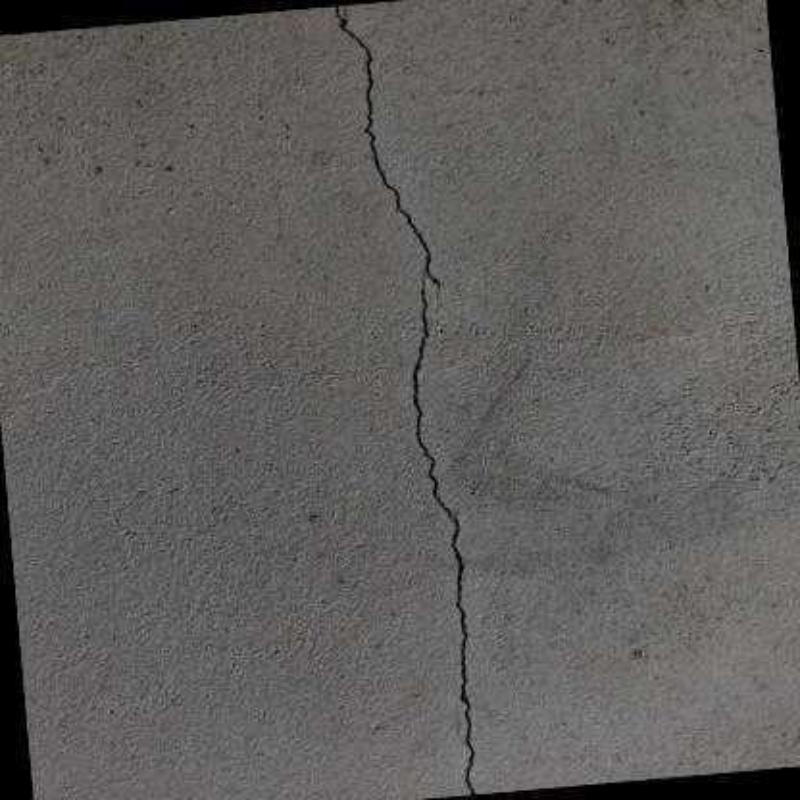pothole: (334, 3, 481, 796)
